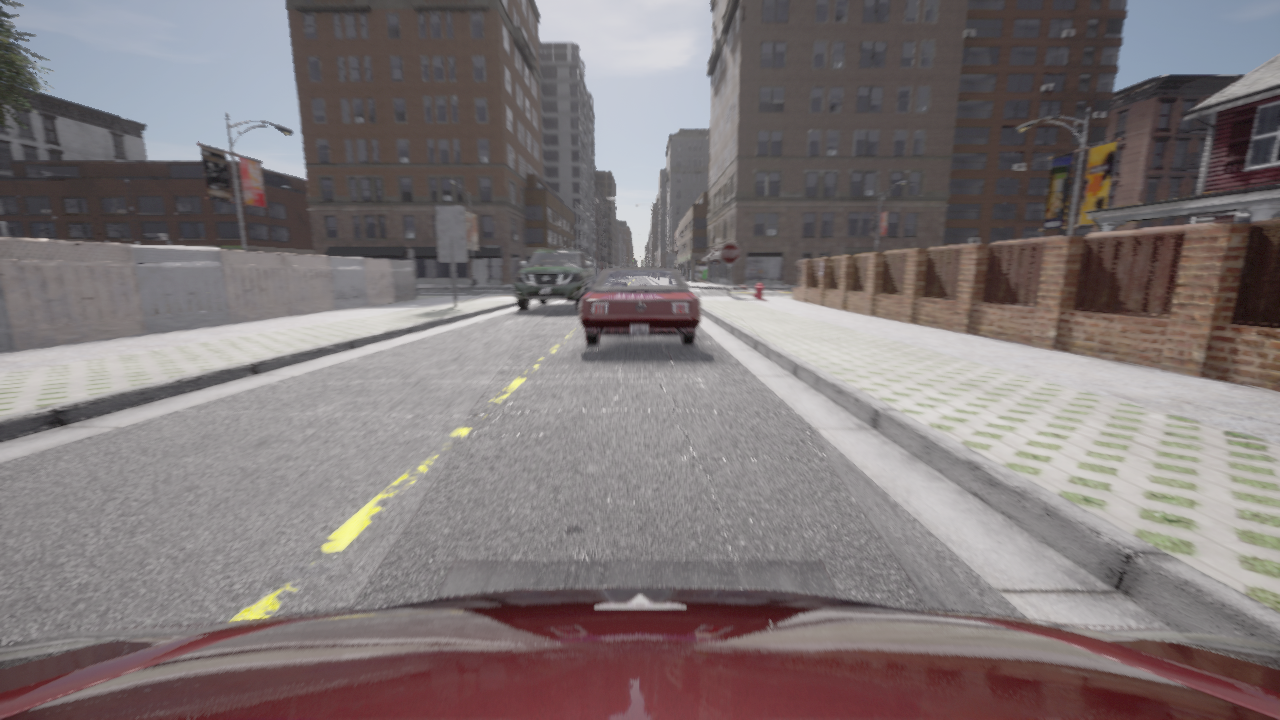cyclist: (0, 588, 1279, 719), (578, 268, 700, 344), (513, 249, 594, 310)
